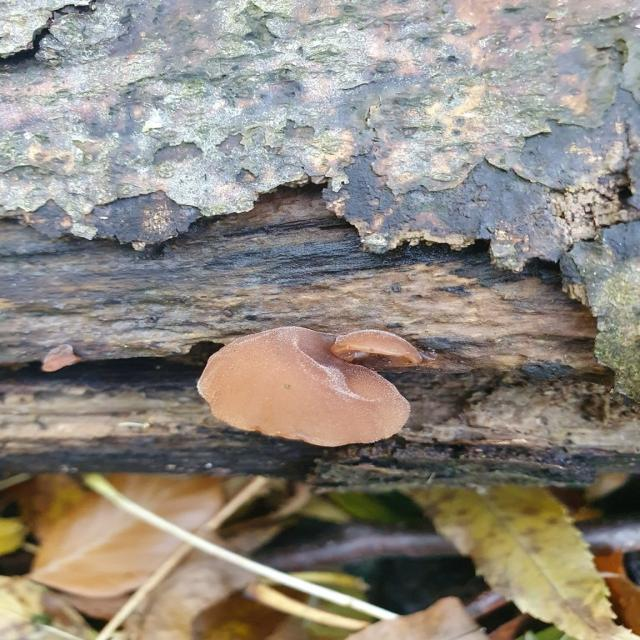Fase Muda: (164, 304, 506, 452)
